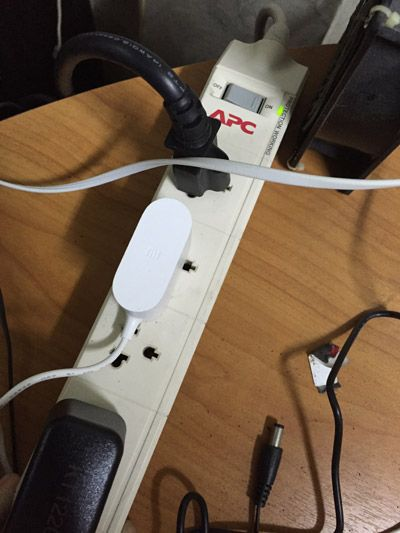Three_eye_plug: (31, 19, 316, 533)
